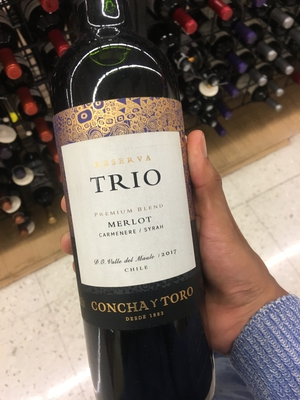trio merlot: (49, 14, 217, 400)
